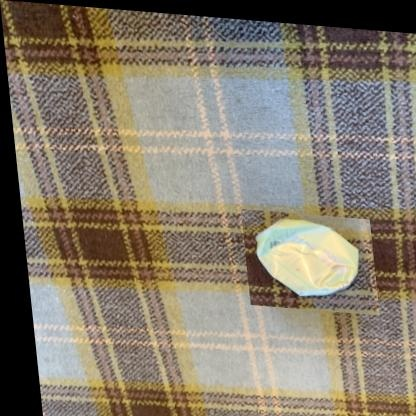trash: (256, 219, 358, 295)
